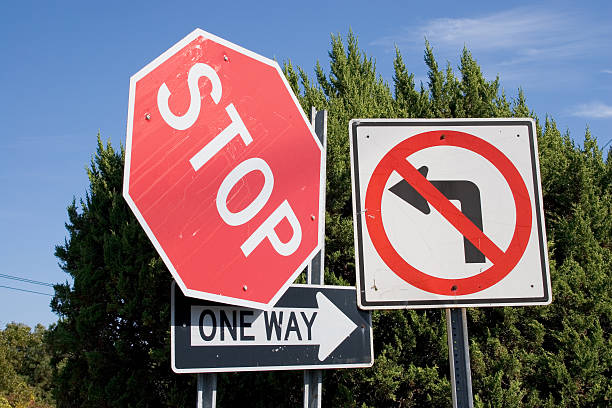sola_girilmez: (368, 131, 532, 295)
